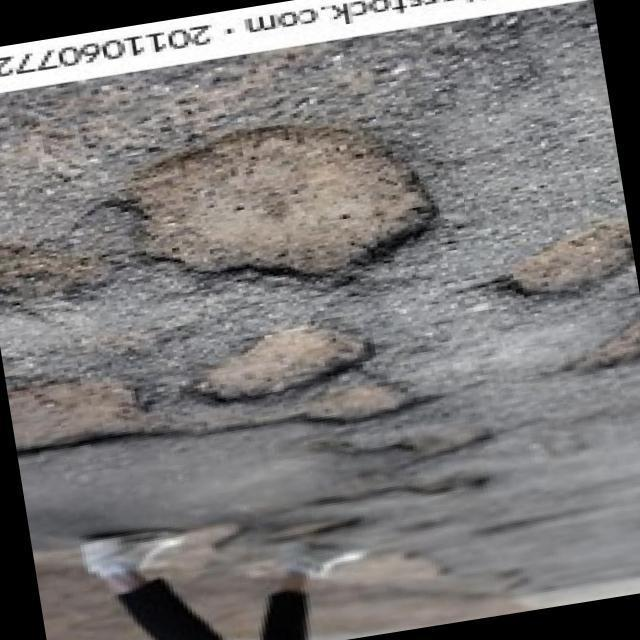Pothole: (134, 125, 437, 281), (187, 326, 380, 406), (479, 225, 632, 297)
